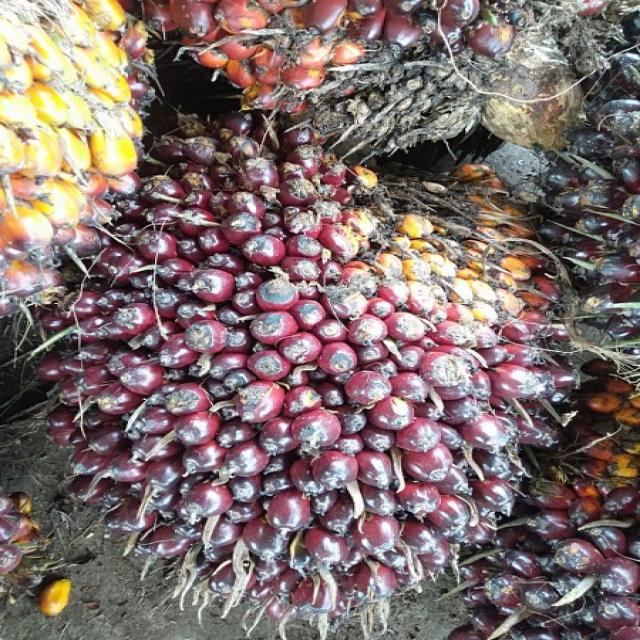fraksi 1: (65, 128, 553, 608)
